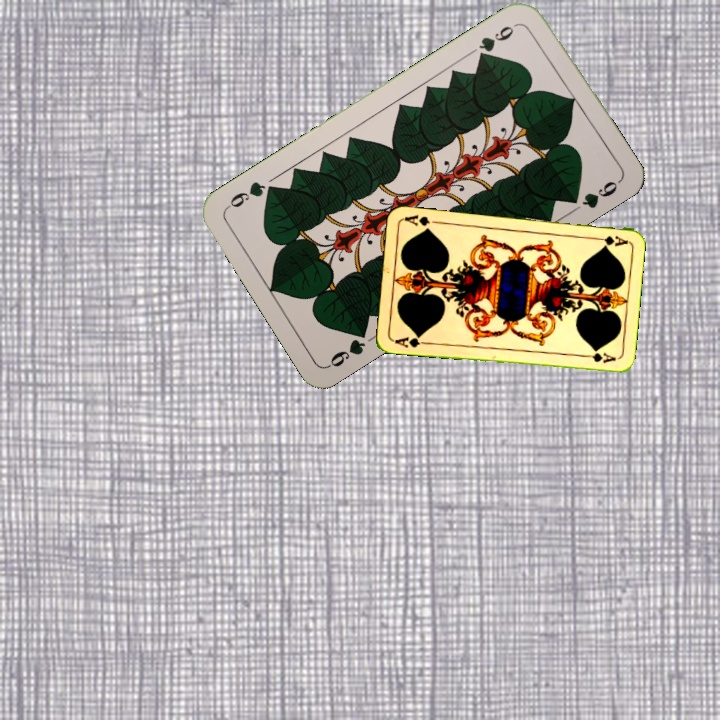G9: (324, 323, 371, 370), (474, 18, 522, 63)
GA: (391, 331, 431, 350), (589, 232, 629, 248)
